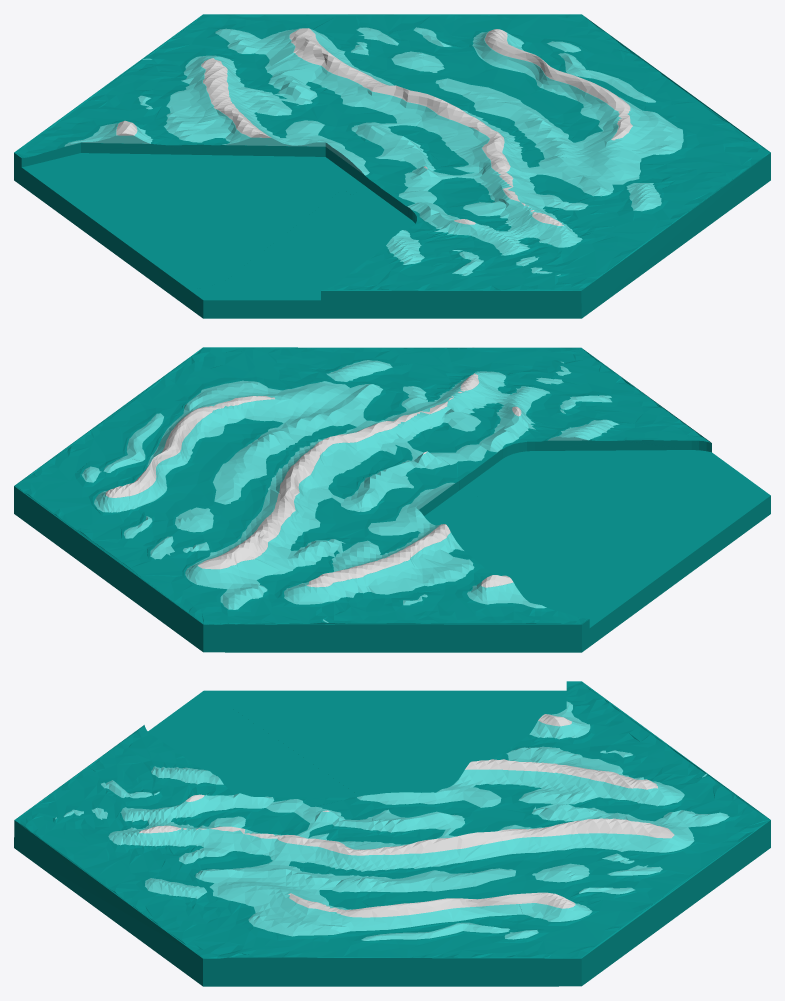
File: harbor_water.glb
3 views of the same model, one above another, from view 1: azimuth 30°, elevation 25°; view 2: azimuth 150°, elevation 25°; view 3: azimuth 270°, elevation 25° (orthographic).
Visible parts, largest first — view 1: harbor_water; view 2: harbor_water; view 3: harbor_water.
Part boxes in pixels (box(x1,y1,x2,y2)): harbor_water: box(14, 14, 770, 318); harbor_water: box(14, 347, 770, 652); harbor_water: box(14, 681, 770, 986).
Size of the model in its own units: 64.09 by 4.94 by 73.93.
